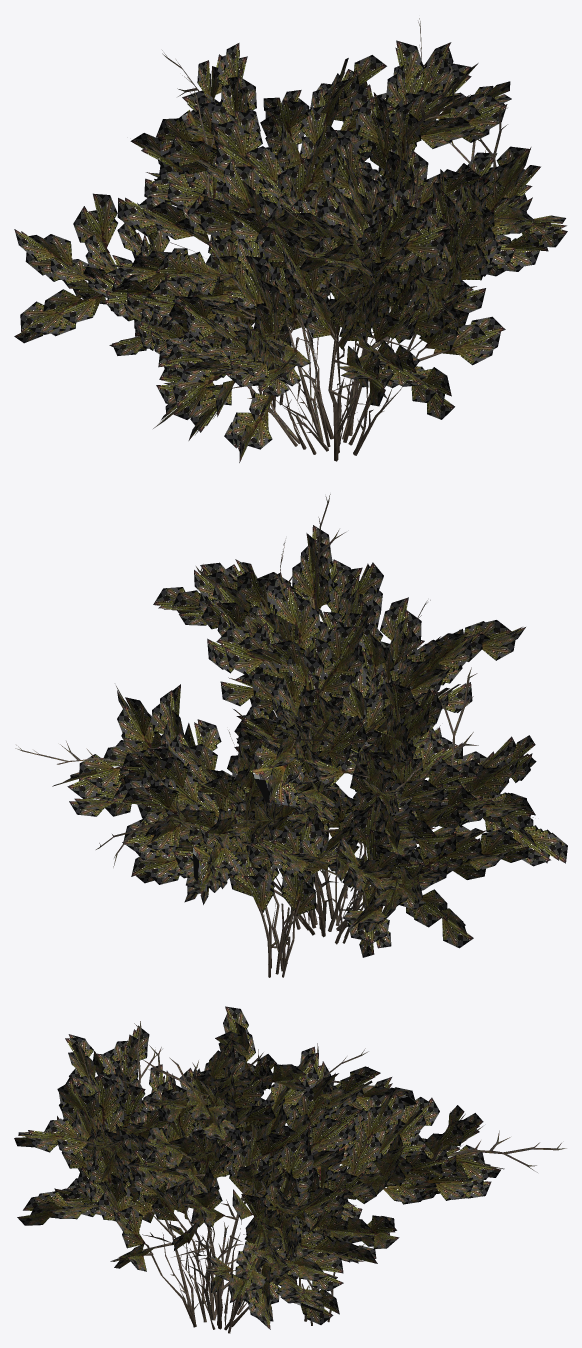
Rendered from shrub_dry.glb.
The picture shows the model from 3 angles, top to bottom: view 1: azimuth 30°, elevation 25°; view 2: azimuth 150°, elevation 25°; view 3: azimuth 270°, elevation 25°; orthographic projection. The views are drawn at different scales.
Parts seen in each view (by area): view 1: variant_a, variant_e; view 2: variant_a, variant_e; view 3: variant_a, variant_e.
Part boxes in pixels (x1=…): variant_a: x1=14, y1=18, x2=567, y2=462; variant_e: x1=212, y1=253, x2=343, y2=409; variant_a: x1=15, y1=494, x2=567, y2=957; variant_e: x1=215, y1=738, x2=390, y2=977; variant_a: x1=14, y1=1006, x2=566, y2=1333; variant_e: x1=236, y1=1161, x2=344, y2=1325.
Size of the model in its own units: 0.6966 by 0.5393 by 0.8432.
Materials: 2 (2 with a texture image).
